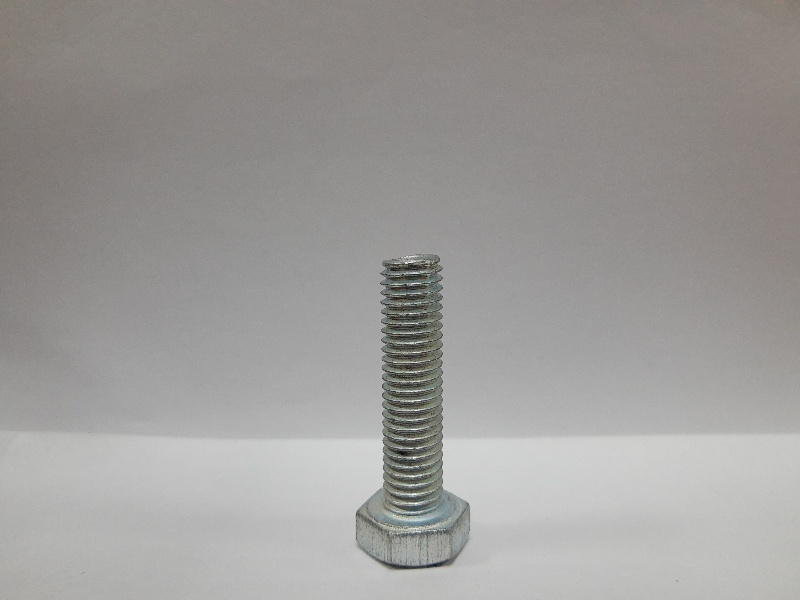pf: (354, 246, 478, 573)
